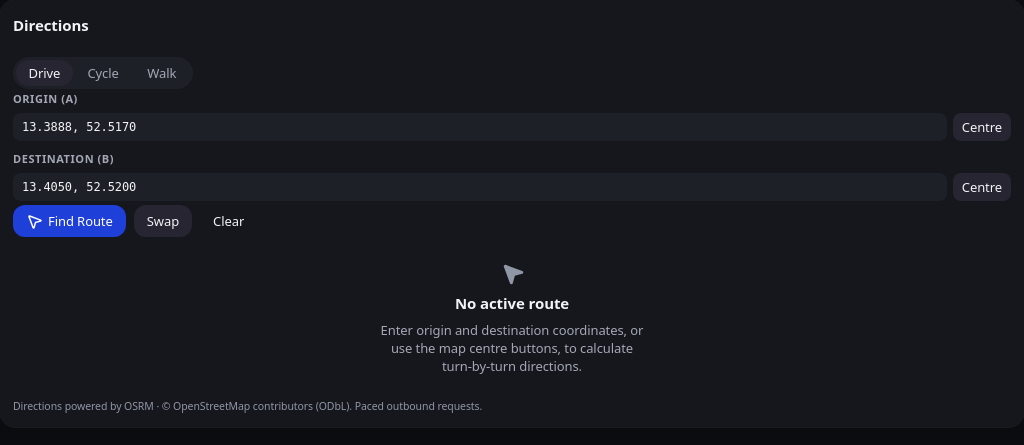
Scenario: DirectionsPanel › displays error state when route calculation fails
The image size is (1024, 445).
Click the button "Find Route" at {"x": 69, "y": 221}, box [13,205,126,237]
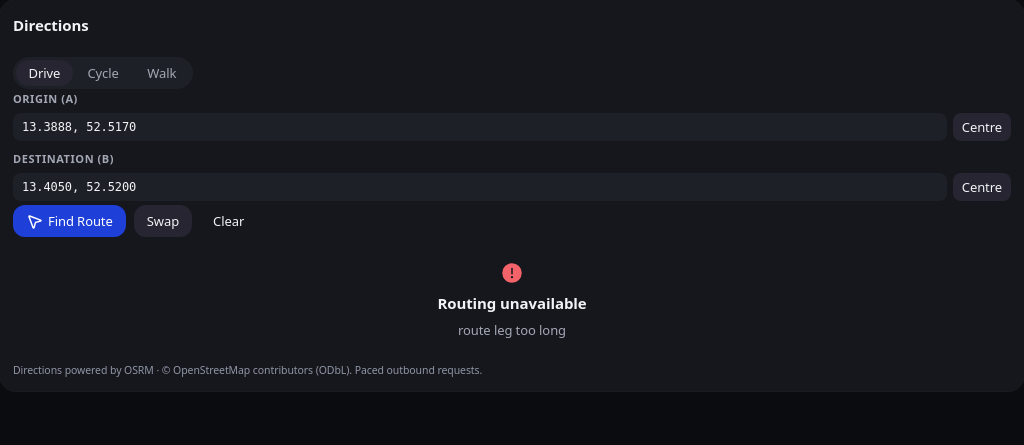
Check: the text "Routing unavailable" is shown, box [437,293,587,313]
Check: the text "route leg too long" is shown, box [458,321,566,339]
